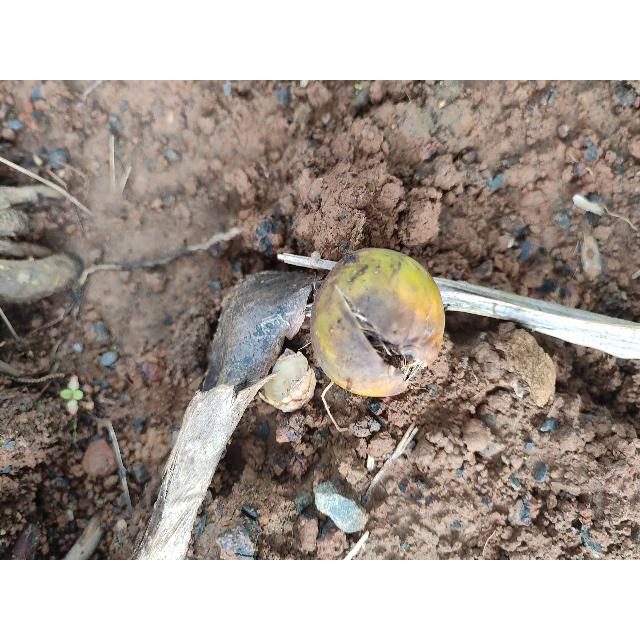damaged: (311, 248, 445, 397)
